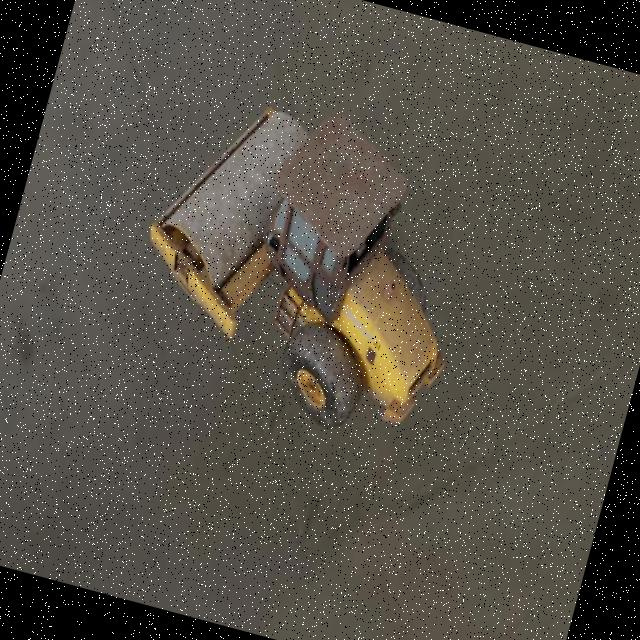Roller: (110, 72, 500, 454)
